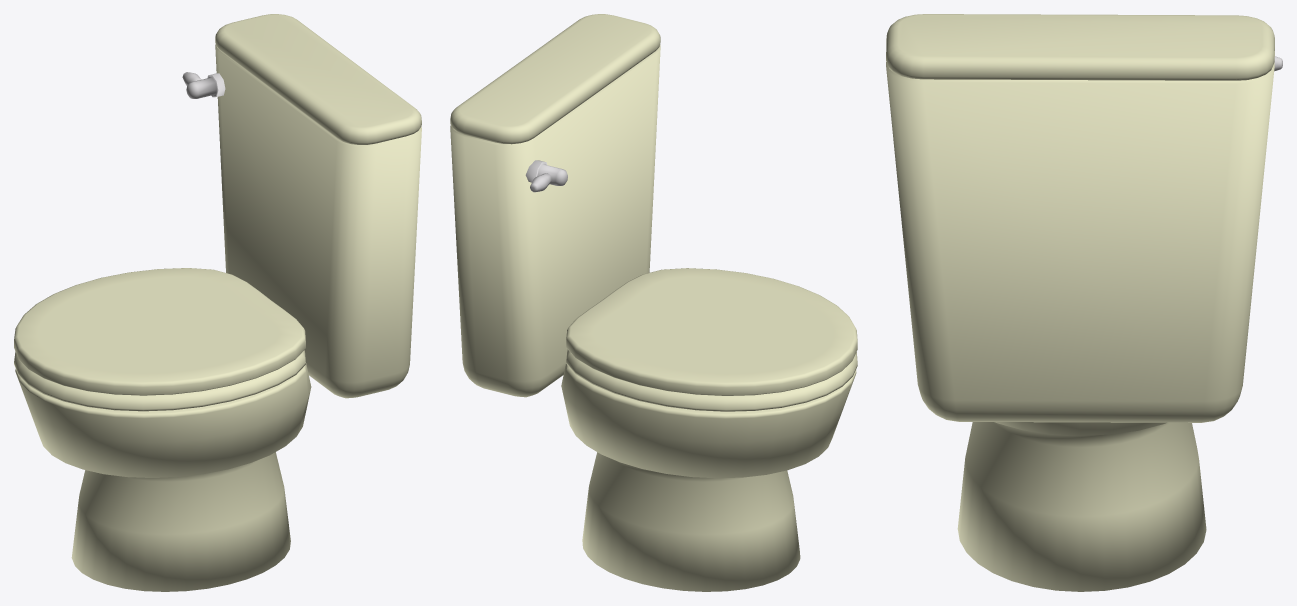
File: Toilet.glb
3 renders of one model, left to right at view 1: azimuth 30°, elevation 25°; view 2: azimuth 150°, elevation 25°; view 3: azimuth 270°, elevation 25°, orthographic. The views are drawn at different scales.
Visible parts, largest first — view 1: Cylinder; view 2: Cylinder; view 3: Cylinder.
Part boxes in pixels (x1,y1,x2,y2): Cylinder: (14, 14, 421, 591); Cylinder: (450, 14, 857, 591); Cylinder: (886, 14, 1282, 591).
Size of the model in its own units: 0.6539 by 0.8435 by 0.5231.
